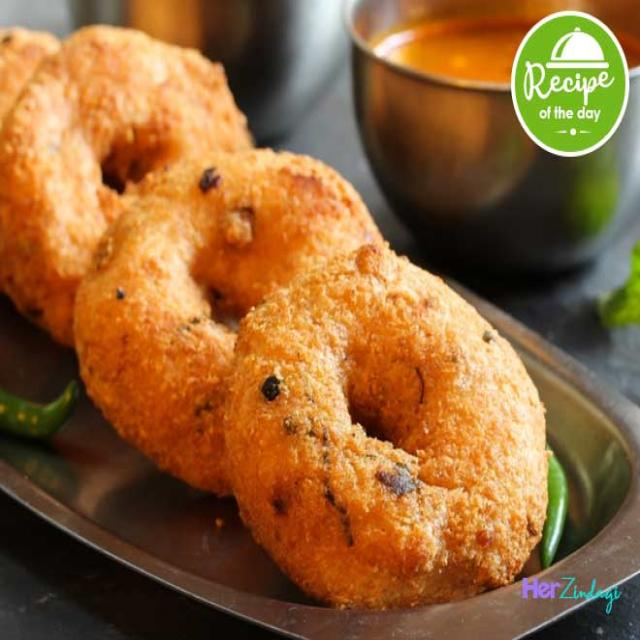MEDU VADA: (221, 244, 549, 608), (73, 150, 381, 495), (0, 25, 251, 345)
